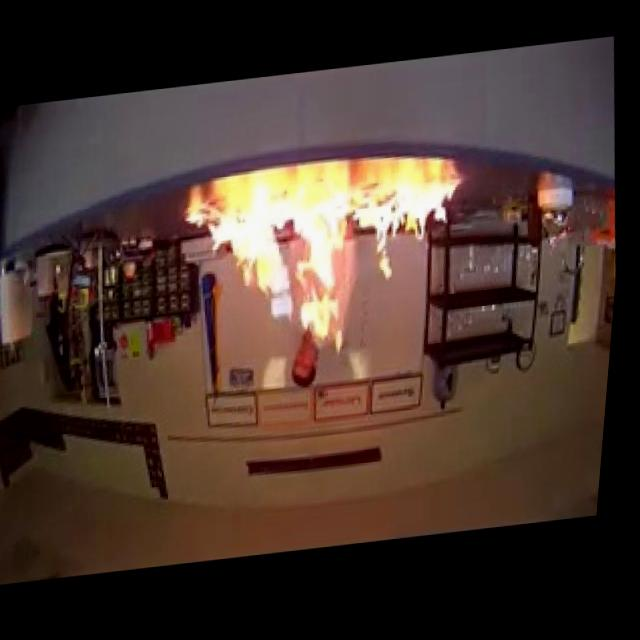Fire: (175, 174, 479, 356)
